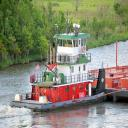tugboat: (8, 20, 109, 115)
